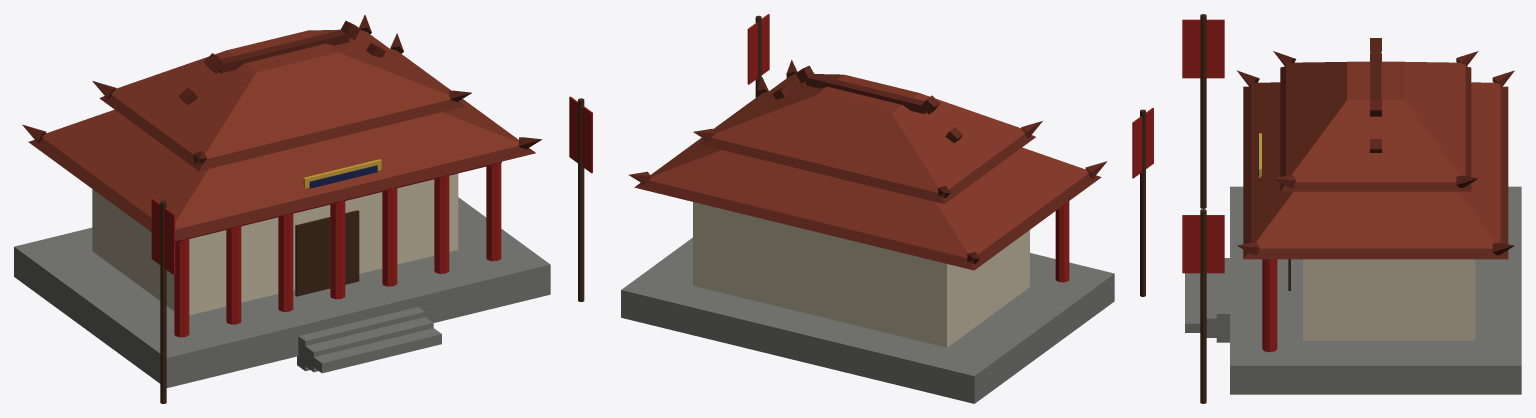
Rendered from SM_GZ_town_hall_ember.fbx.
The picture shows the model from 3 angles, left to right: view 1: azimuth 30°, elevation 25°; view 2: azimuth 150°, elevation 25°; view 3: azimuth 270°, elevation 25°; orthographic projection. The views are drawn at different scales.
Parts seen in each view (by area): view 1: SM_GZ_town_hall_ember; view 2: SM_GZ_town_hall_ember; view 3: SM_GZ_town_hall_ember.
Part boxes in pixels (box(x1,y1,x2,y2)): SM_GZ_town_hall_ember: box(14, 14, 592, 403); SM_GZ_town_hall_ember: box(621, 14, 1153, 403); SM_GZ_town_hall_ember: box(1182, 14, 1521, 403).
Size of the model in its own units: 1764 by 1022 by 1280.
